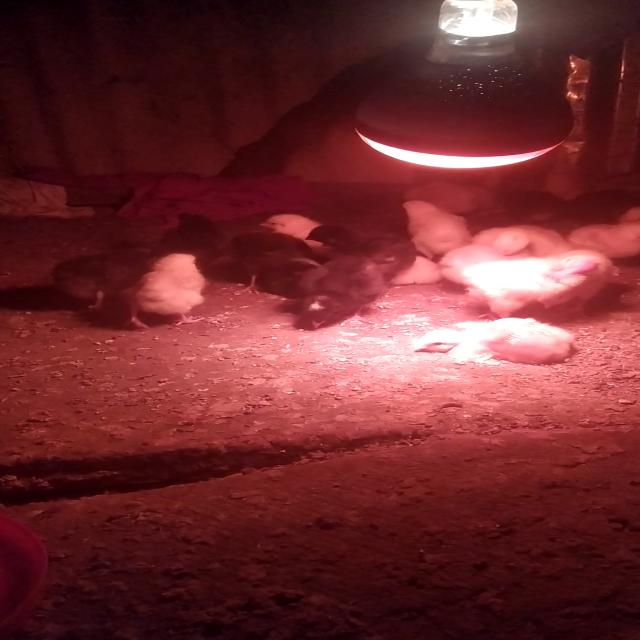chick: (464, 250, 604, 321), (406, 316, 578, 366), (296, 252, 387, 332), (227, 229, 320, 297), (128, 252, 208, 328), (399, 198, 476, 267), (52, 250, 132, 313), (466, 224, 576, 260), (406, 179, 494, 213), (158, 212, 220, 258), (569, 221, 640, 258), (380, 255, 454, 285), (255, 212, 323, 244), (502, 193, 569, 220), (576, 190, 633, 218)
objects: (352, 0, 572, 171)
